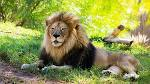lion: (18, 18, 145, 81)
